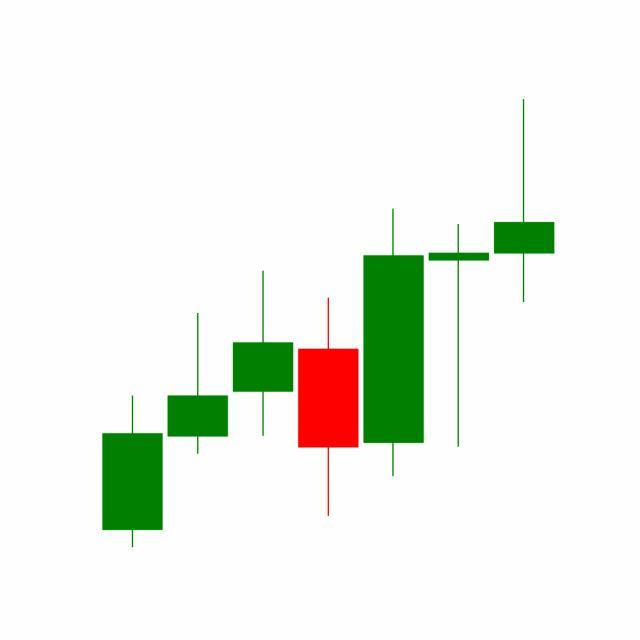Advance Block: (360, 99, 556, 481)
